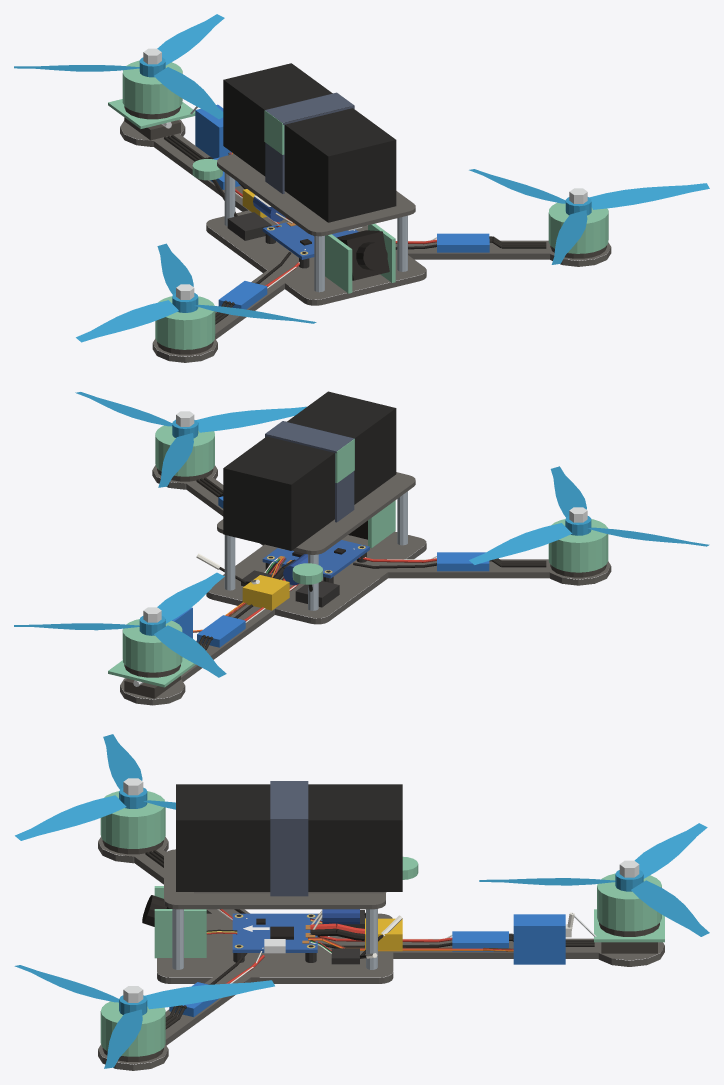
Rendered from tricopter.glb.
The picture shows the model from 3 angles, top to bottom: view 1: azimuth 30°, elevation 25°; view 2: azimuth 150°, elevation 25°; view 3: azimuth 270°, elevation 25°; orthographic projection. The views are drawn at different scales.
Parts seen in each view (by area): view 1: static, static.cover, prop:M3, prop:M1, prop:M2; view 2: static, static.cover, prop:M3, prop:M1, prop:M2; view 3: static, static.cover, prop:M3, prop:M1, prop:M2.
Part boxes in pixels (x1,y1,x2,y2): static: (108,48,611,362); static.cover: (217,63,415,292); prop:M3: (469,169,709,264); prop:M1: (14,14,224,119); prop:M2: (76,243,316,342); static: (108,411,611,705); static.cover: (217,391,415,610); prop:M3: (75,392,306,487); prop:M1: (14,572,226,677); prop:M2: (469,466,709,564); static: (98,778,664,1070); static.cover: (164,781,402,969); prop:M3: (14,965,274,1068); prop:M1: (479,823,709,936); prop:M2: (15,734,175,840).
Bounding box in the file's own units: 0.334 × 0.071 × 0.2945.
